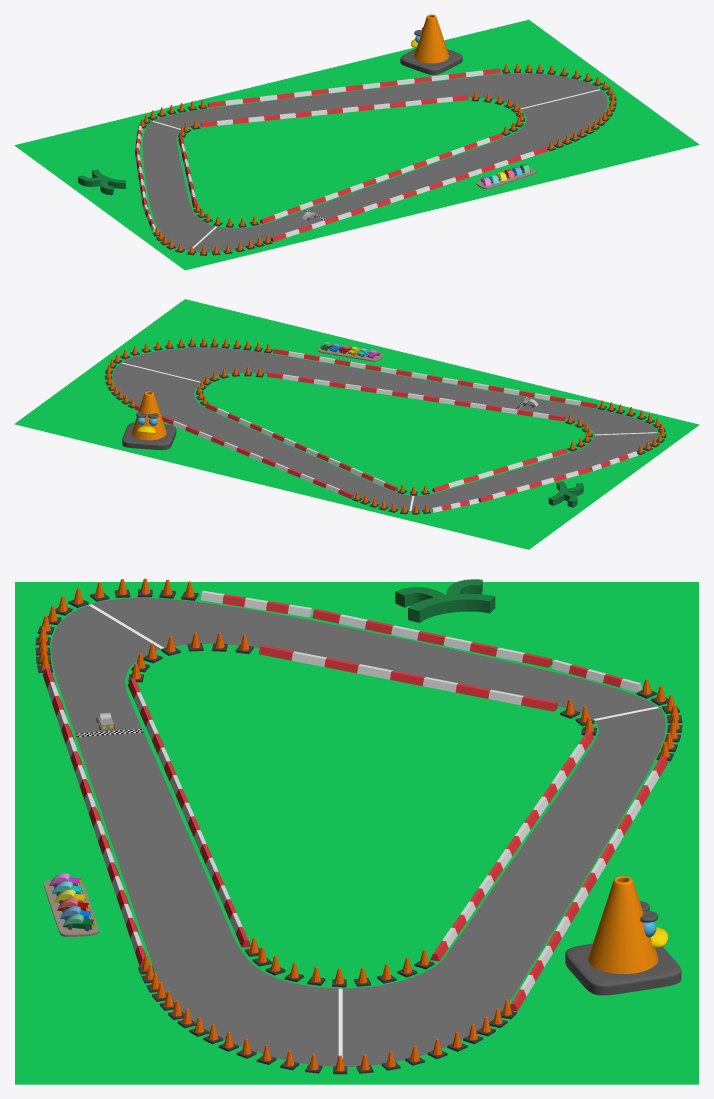
File: Track020.fbx
3 views of the same model, one above another, from view 1: azimuth 30°, elevation 25°; view 2: azimuth 150°, elevation 25°; view 3: azimuth 270°, elevation 25° (orthographic). The views are drawn at different scales.
Parts seen in each view (by area): view 1: Grass, Road, Barrier.001, Barrier.002, Barrier.007, Barrier.005, BigConeTop.002, BigConeBase.002, K; view 2: Grass, Road, Barrier.002, Barrier.005, Barrier.001, Barrier.007, BigConeTop.002, BigConeBase.002, Barrier.006, Barrier.009, K; view 3: Grass, Road, BigConeTop.002, Barrier.006, Barrier.002, BigConeBase.002, Barrier.001, Barrier.005, Barrier.007, K, Barrier.009, Barrier.008 (+2 smaller).
Part boxes in pixels (x1=…): Grass: x1=14, y1=19, x2=699, y2=270; Road: x1=142, y1=73, x2=607, y2=252; Barrier.001: x1=207, y1=68, x2=500, y2=107; Barrier.002: x1=270, y1=147, x2=547, y2=241; Barrier.007: x1=200, y1=95, x2=468, y2=127; Barrier.005: x1=260, y1=133, x2=502, y2=223; BigConeTop.002: x1=414, y1=14, x2=448, y2=63; BigConeBase.002: x1=400, y1=49, x2=462, y2=74; K: x1=78, y1=169, x2=125, y2=195; Grass: x1=14, y1=299, x2=699, y2=549; Road: x1=112, y1=347, x2=657, y2=510; Barrier.002: x1=273, y1=348, x2=597, y2=408; Barrier.005: x1=267, y1=372, x2=565, y2=421; Barrier.001: x1=134, y1=405, x2=354, y2=498; Barrier.007: x1=205, y1=403, x2=398, y2=491; BigConeTop.002: x1=131, y1=391, x2=166, y2=440; BigConeBase.002: x1=122, y1=422, x2=176, y2=449; Barrier.006: x1=432, y1=448, x2=567, y2=492; Barrier.009: x1=478, y1=467, x2=590, y2=502; K: x1=548, y1=481, x2=583, y2=507; Grass: x1=15, y1=582, x2=698, y2=1084; Road: x1=51, y1=598, x2=665, y2=1066; BigConeTop.002: x1=588, y1=876, x2=658, y2=973; Barrier.006: x1=259, y1=645, x2=557, y2=711; Barrier.002: x1=42, y1=668, x2=145, y2=966; BigConeBase.002: x1=565, y1=943, x2=681, y2=995; Barrier.001: x1=510, y1=755, x2=667, y2=1011; Barrier.005: x1=128, y1=678, x2=250, y2=947; Barrier.007: x1=430, y1=731, x2=593, y2=961; K: x1=395, y1=579, x2=495, y2=622; Barrier.009: x1=312, y1=609, x2=552, y2=667; Barrier.008: x1=200, y1=590, x2=312, y2=617.
Bounding box in the file's own units: 241 × 139 × 20.43.
